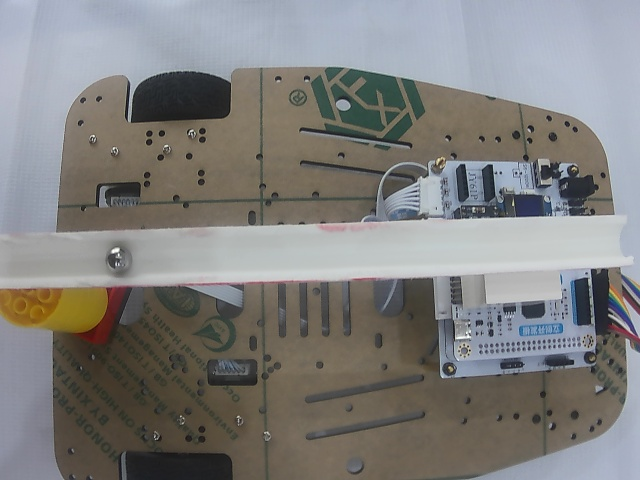steelball: (104, 246, 132, 274)
